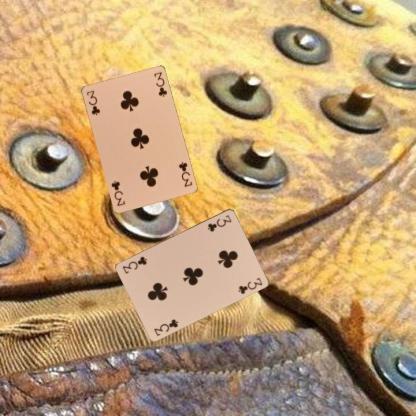3c: (151, 316, 180, 337), (205, 212, 233, 233), (84, 88, 101, 117), (176, 159, 193, 188)
